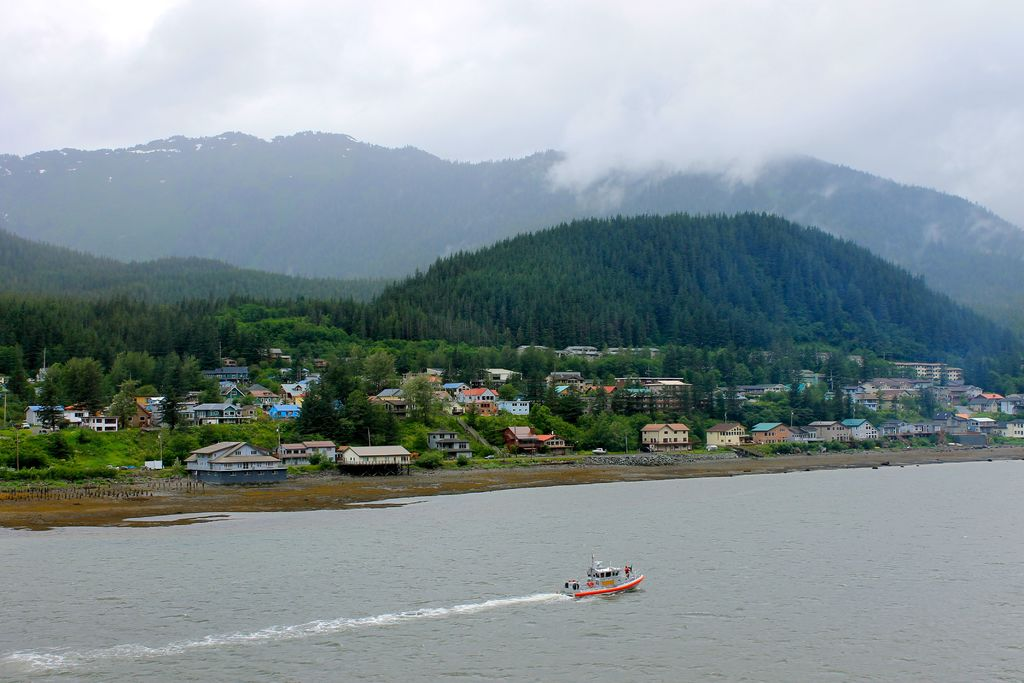boat: (545, 537, 675, 617)
